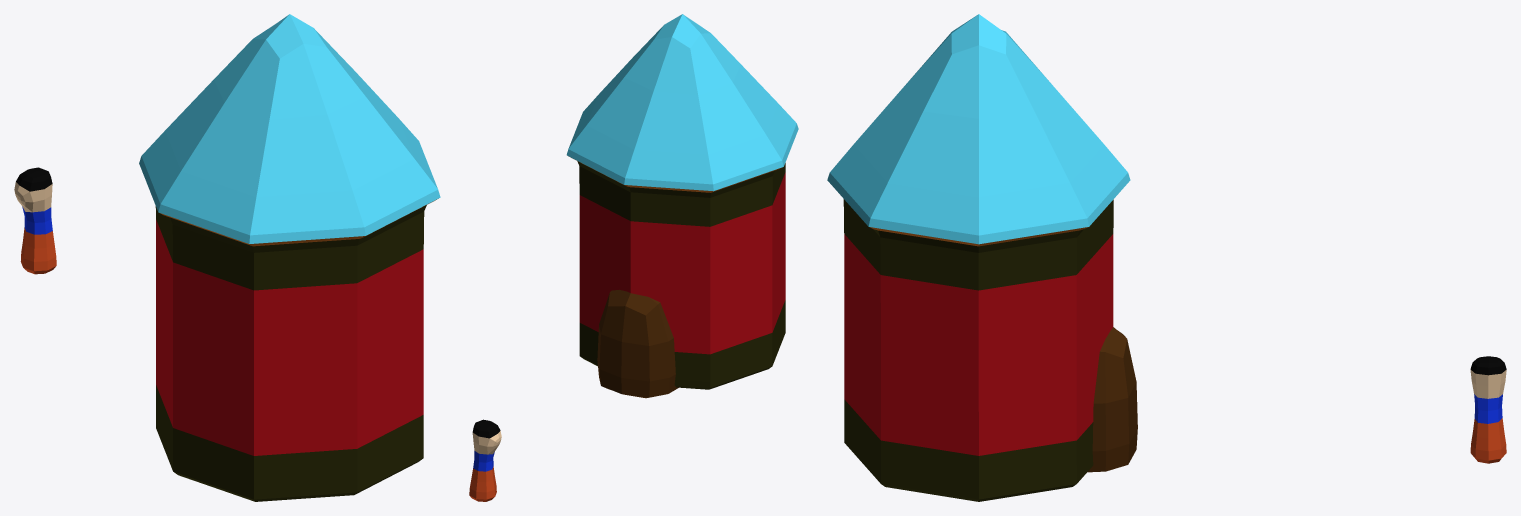
File: models.fbx
3 renders of one model, left to right at view 1: azimuth 30°, elevation 25°; view 2: azimuth 150°, elevation 25°; view 3: azimuth 270°, elevation 25°, orthographic. The views are drawn at different scales.
Visible parts, largest first — view 1: WoodCutter, Settler; view 2: WoodCutter, Settler; view 3: WoodCutter, Settler.
Boxes of the visible parts, <box> form: WoodCutter: <box>139,14,440,501</box>; Settler: <box>14,167,56,274</box>; WoodCutter: <box>566,14,798,398</box>; Settler: <box>469,419,501,501</box>; WoodCutter: <box>827,14,1137,501</box>; Settler: <box>1470,356,1506,463</box>.
Size of the model in its own units: 454 by 734 by 1017.
